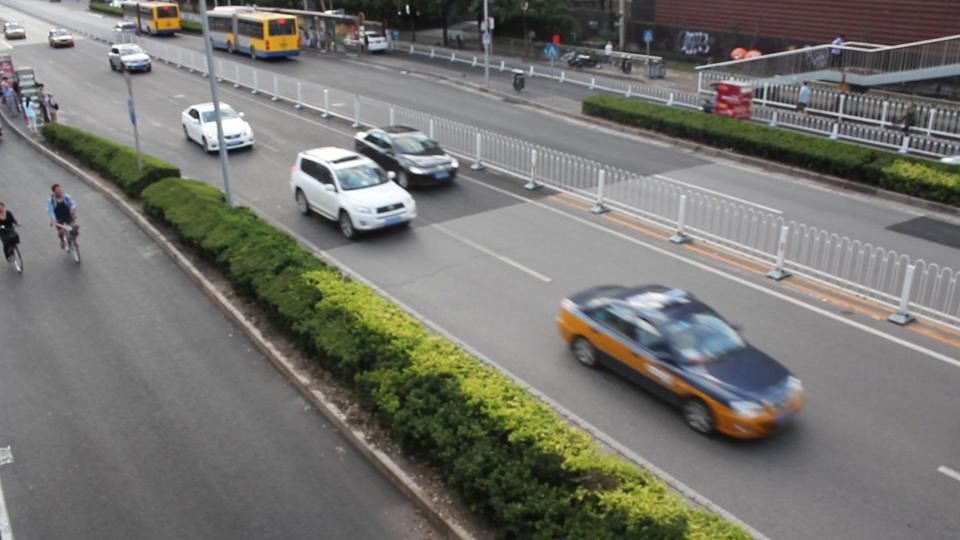bus: (204, 6, 301, 63), (119, 1, 181, 34)
car: (557, 282, 808, 445), (353, 124, 459, 189), (178, 100, 256, 154), (46, 28, 74, 48), (2, 19, 26, 40)
suv: (291, 148, 416, 237), (106, 44, 153, 73)
